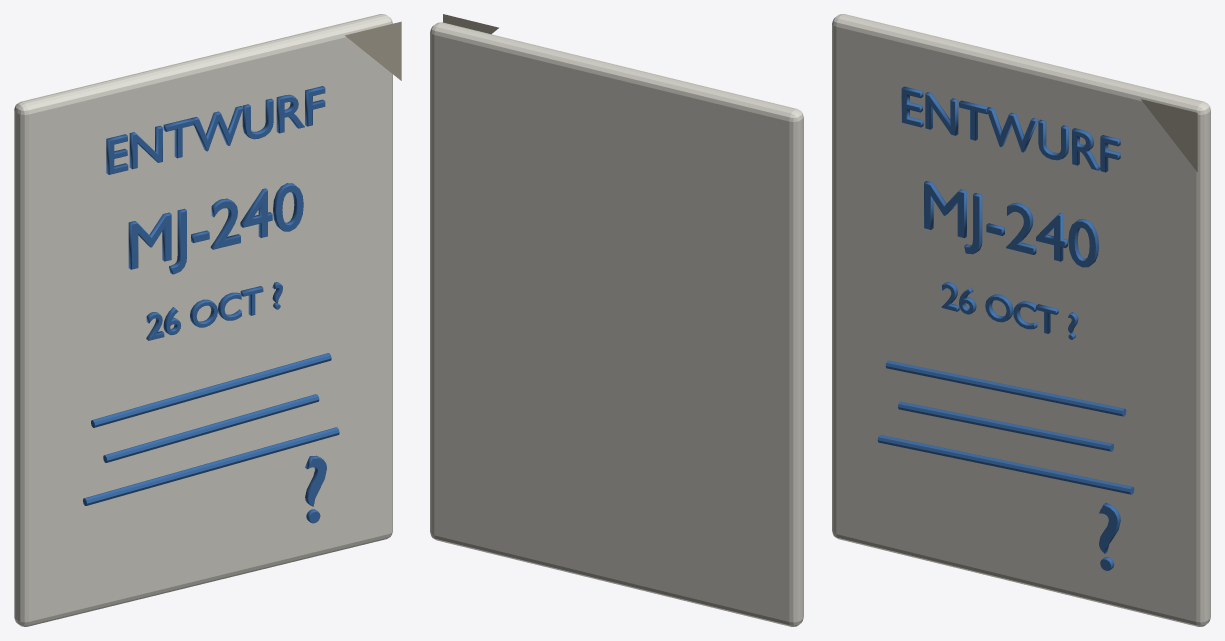
Rendered from slip-draft-v1-BTFd4pjZ.glb.
3 renders of one model, left to right at view 1: azimuth 30°, elevation 25°; view 2: azimuth 150°, elevation 25°; view 3: azimuth 330°, elevation 25°, orthographic.
Visible parts, largest first — view 1: Document sheet, Document number, Document heading, Document line 3, Document line 1, Document date, Document line 2, Folded corner, Draft question; view 2: Document sheet; view 3: Document sheet, Document heading, Document number, Document line 3, Document line 1, Document date, Document line 2, Folded corner, Draft question.
Part boxes in pixels (bbox=[...]): Document sheet: bbox=[14, 14, 392, 626]; Document number: bbox=[128, 183, 303, 274]; Document heading: bbox=[106, 86, 325, 174]; Document line 3: bbox=[83, 427, 339, 505]; Document line 1: bbox=[91, 353, 331, 427]; Document date: bbox=[146, 282, 282, 340]; Document line 2: bbox=[103, 394, 319, 462]; Folded corner: bbox=[345, 21, 401, 80]; Draft question: bbox=[305, 455, 326, 523]; Document sheet: bbox=[430, 22, 803, 626]; Document sheet: bbox=[832, 14, 1210, 626]; Document heading: bbox=[901, 86, 1120, 172]; Document number: bbox=[924, 181, 1098, 267]; Document line 3: bbox=[877, 435, 1134, 494]; Document line 1: bbox=[885, 360, 1126, 416]; Document date: bbox=[941, 282, 1078, 339]; Document line 2: bbox=[898, 401, 1113, 451]; Folded corner: bbox=[1141, 99, 1197, 171]; Draft question: bbox=[1099, 503, 1120, 570].
Bounding box in the file's own units: 1.44 × 1.92 × 0.126.
